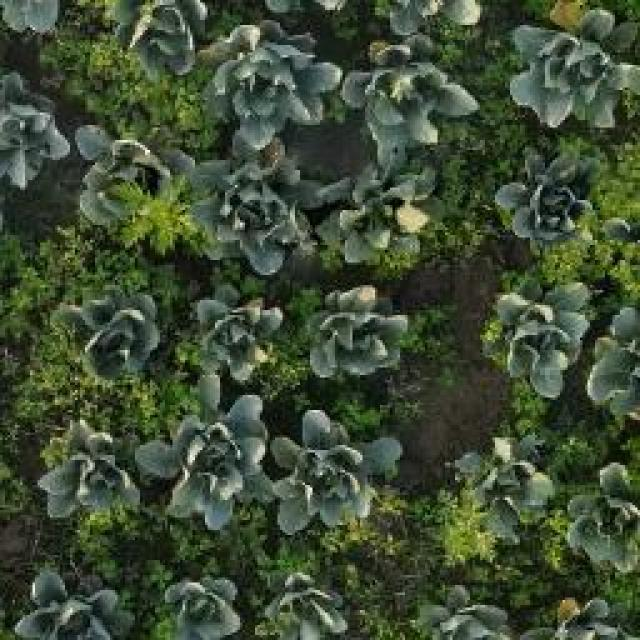cabbage: (140, 396, 266, 524), (193, 149, 324, 271), (347, 33, 476, 145), (72, 120, 192, 232), (480, 262, 592, 380), (513, 12, 629, 125), (265, 417, 375, 535), (218, 20, 328, 138), (34, 413, 140, 527), (68, 276, 170, 381), (84, 0, 212, 78), (184, 286, 284, 382), (329, 170, 431, 264), (502, 153, 607, 243), (312, 279, 408, 373), (0, 68, 73, 188), (454, 442, 547, 536), (20, 571, 126, 640), (260, 565, 350, 640), (572, 475, 640, 573), (153, 568, 240, 640)
